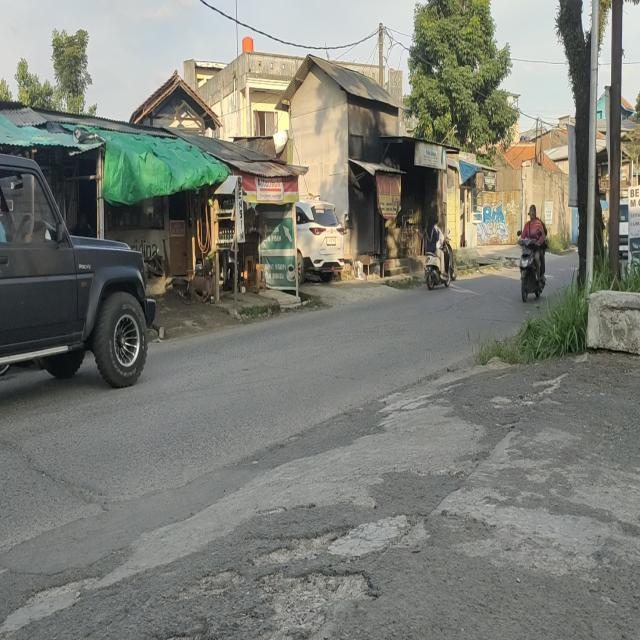no-helmet: (528, 204, 538, 222), (426, 215, 435, 228), (434, 215, 439, 225)
